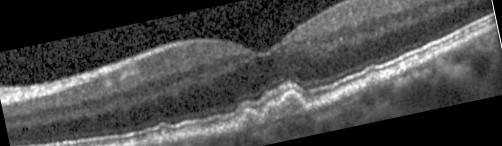retinal_drusen: (265, 92, 304, 121), (239, 109, 265, 127), (154, 128, 171, 146), (365, 70, 380, 86)
